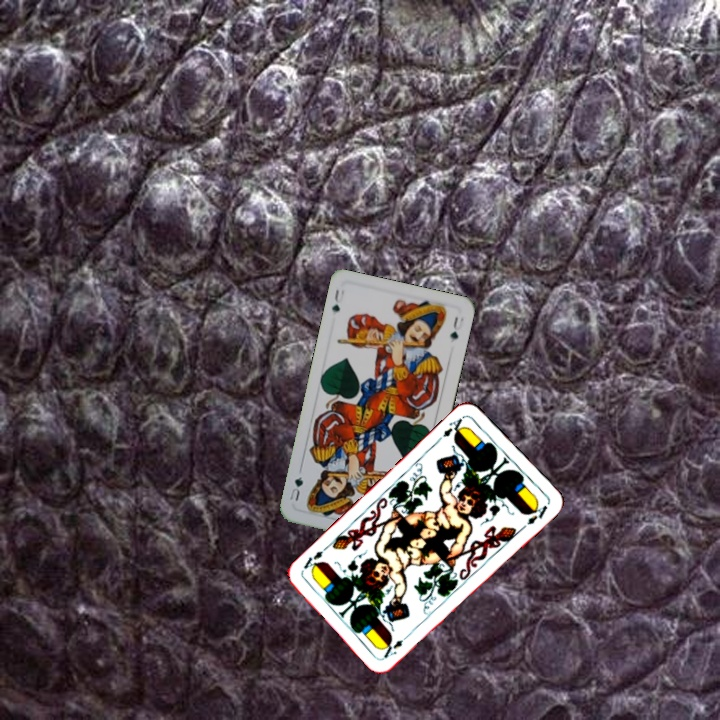EA: (379, 630, 413, 661), (439, 413, 467, 440)
GU: (328, 285, 347, 314)
